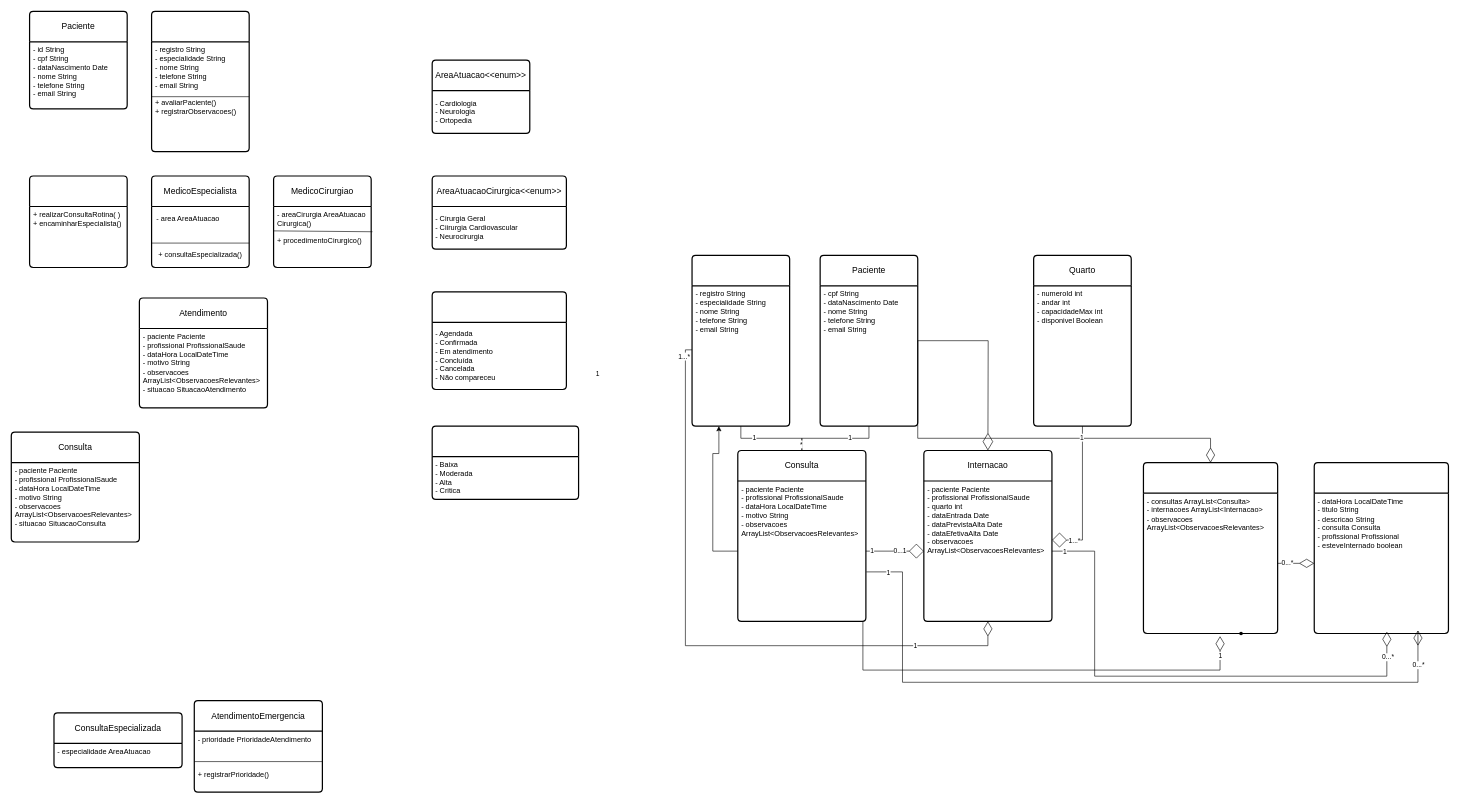
Some shapes in this 1459 by 803 pixel diagram are drawn without their labels. Here are the shapes that lost their labels. From the top down, the box of each, then its label:
(151, 10, 249, 152): Profissional
(29, 175, 127, 268): MedicoClinicoGeral
(431, 291, 567, 390): SituacaoAtendimento<<enum>>
(691, 254, 790, 426): ProfissionalSaude
(431, 425, 579, 500): PrioridadeAtendimento<<enum>>
(1143, 462, 1278, 634): HistoricoMedico
(1313, 462, 1449, 634): ObservacoesRelevantes
